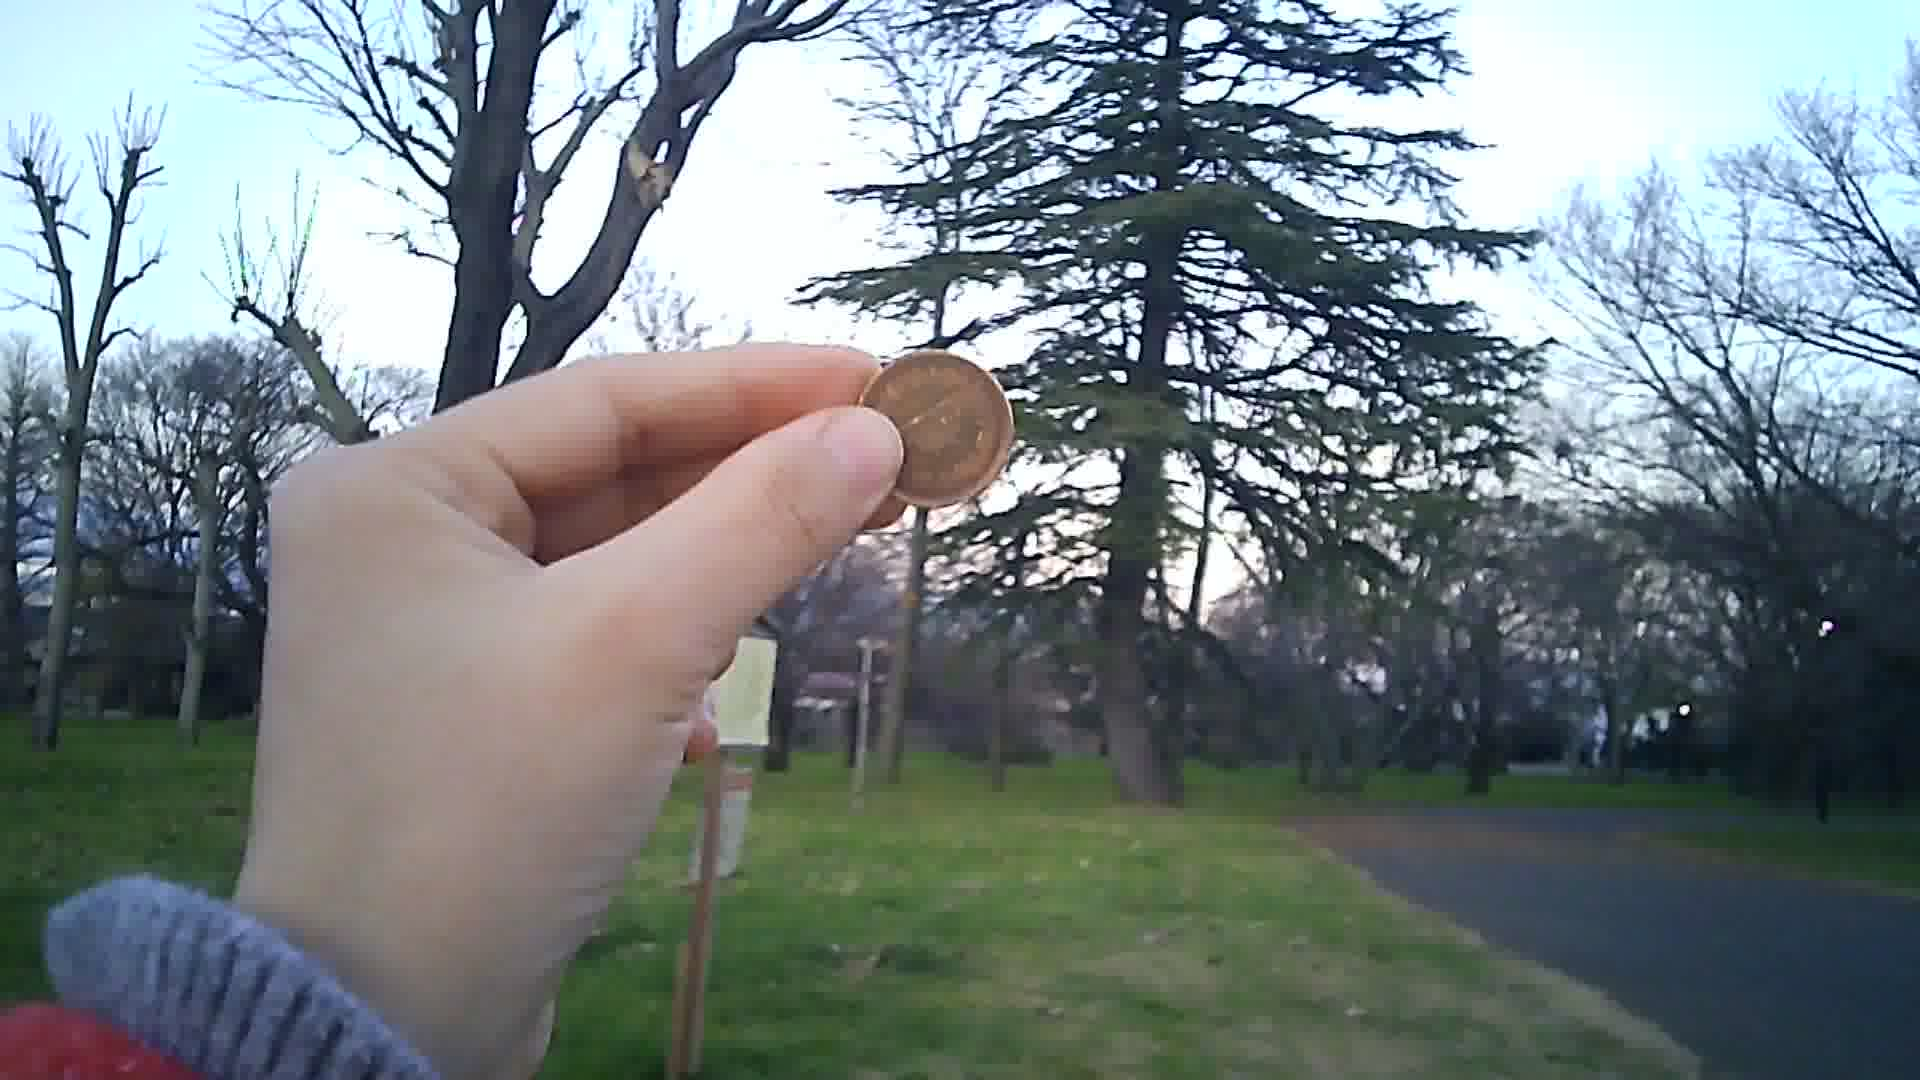10 Yen: (849, 352, 1015, 506)
